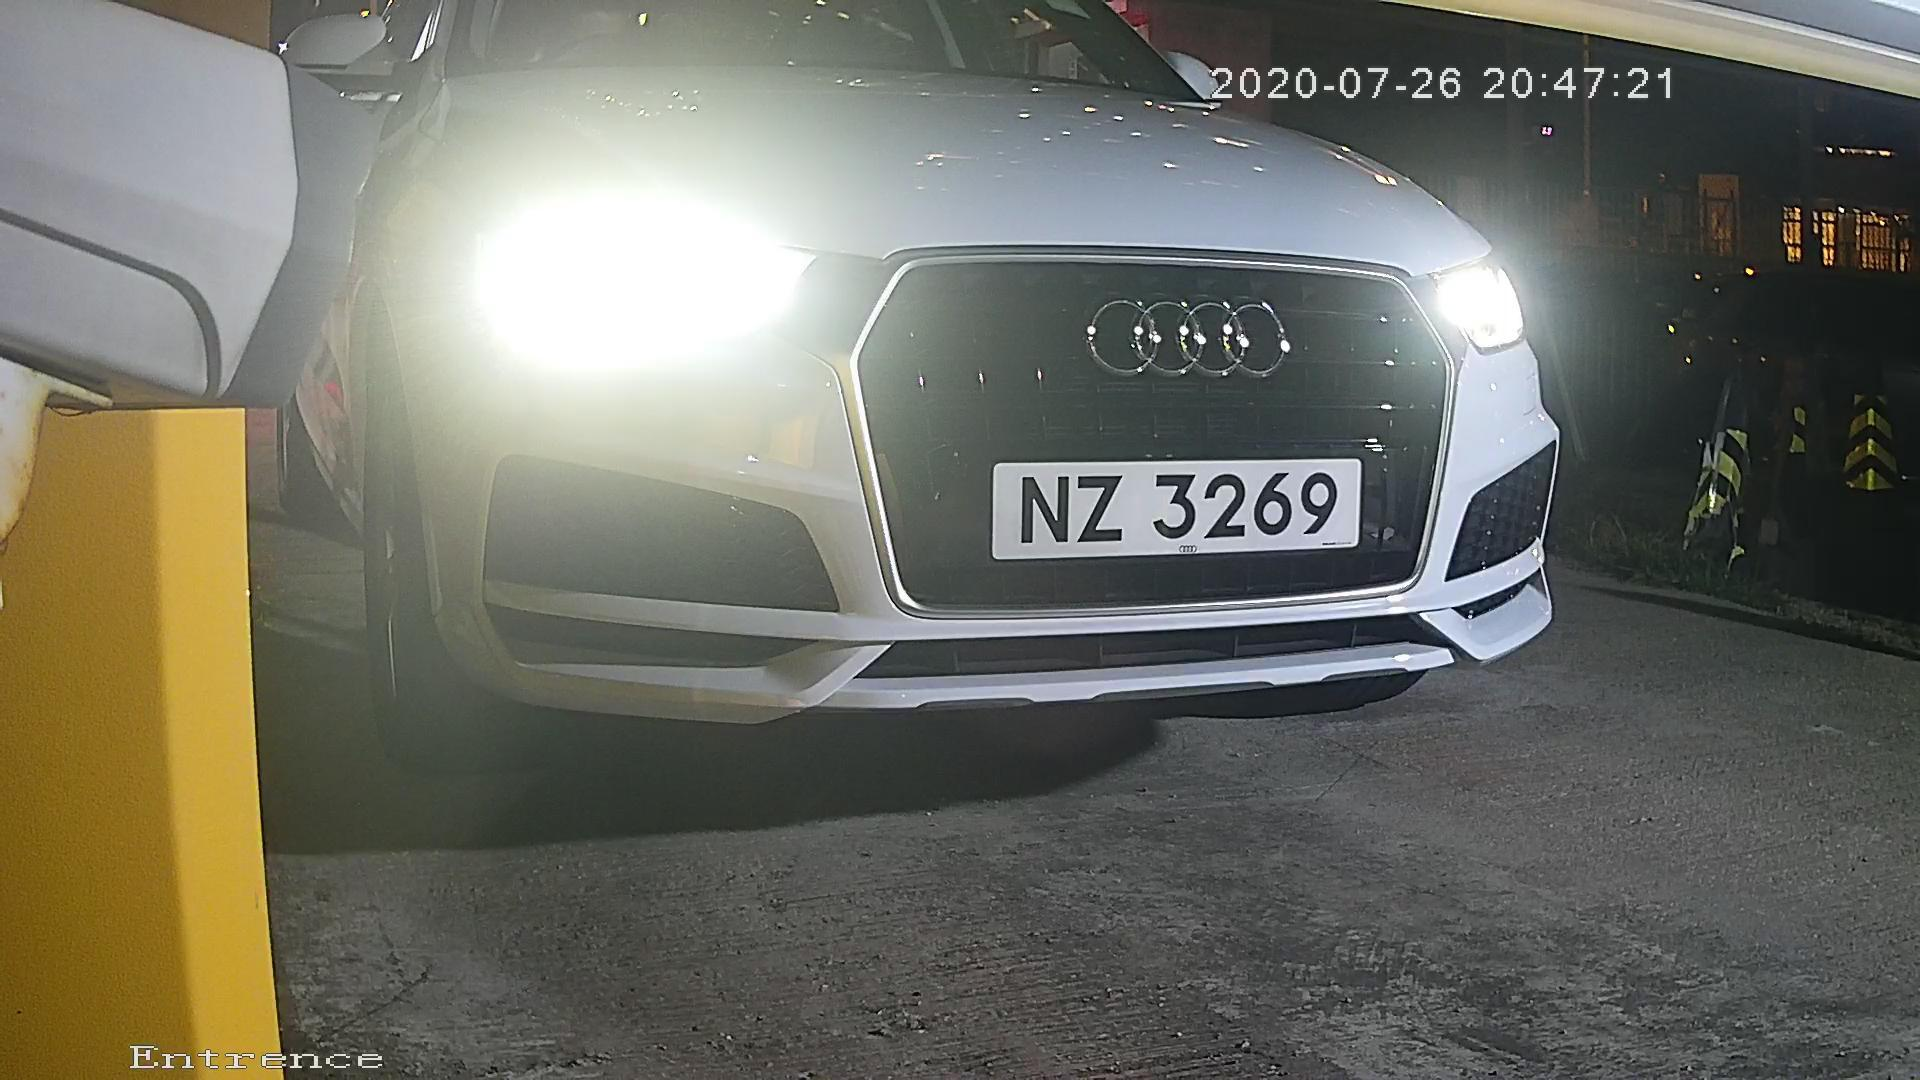Car: (112, 58, 1621, 815)
License Plate: (952, 439, 1372, 565)
